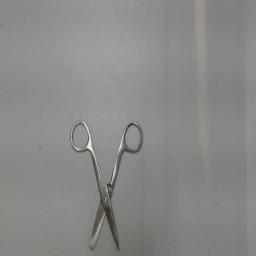Dressing Scissors: (65, 112, 149, 254)
